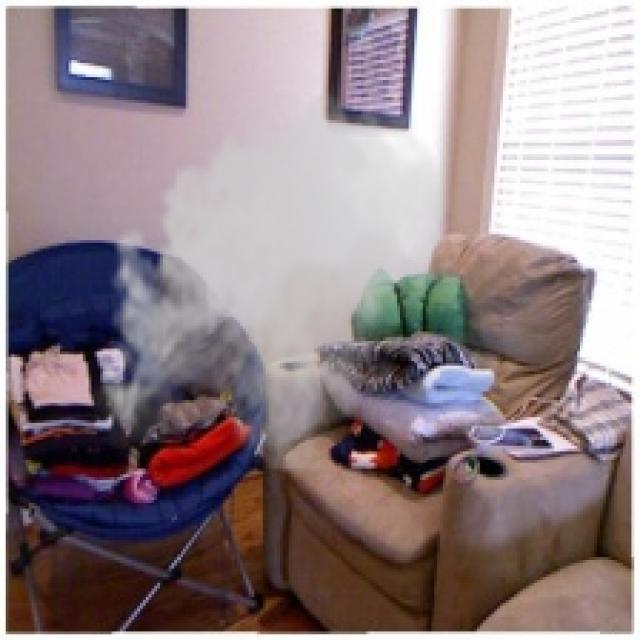smoke: (89, 80, 454, 474)
